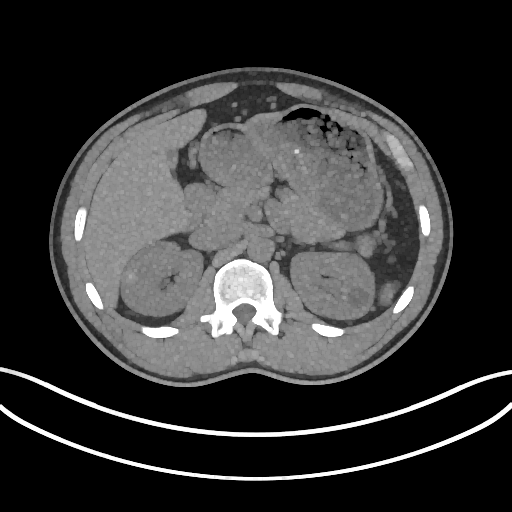Lesion: (121, 270, 139, 285)
